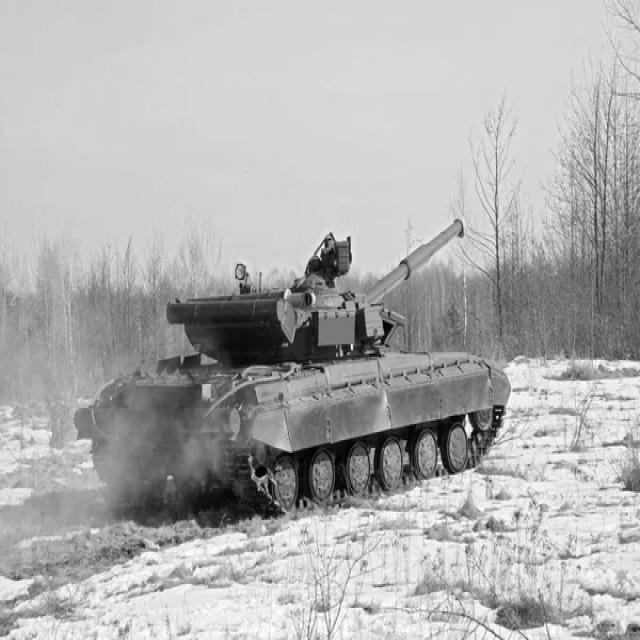Tank: (72, 204, 510, 541)
